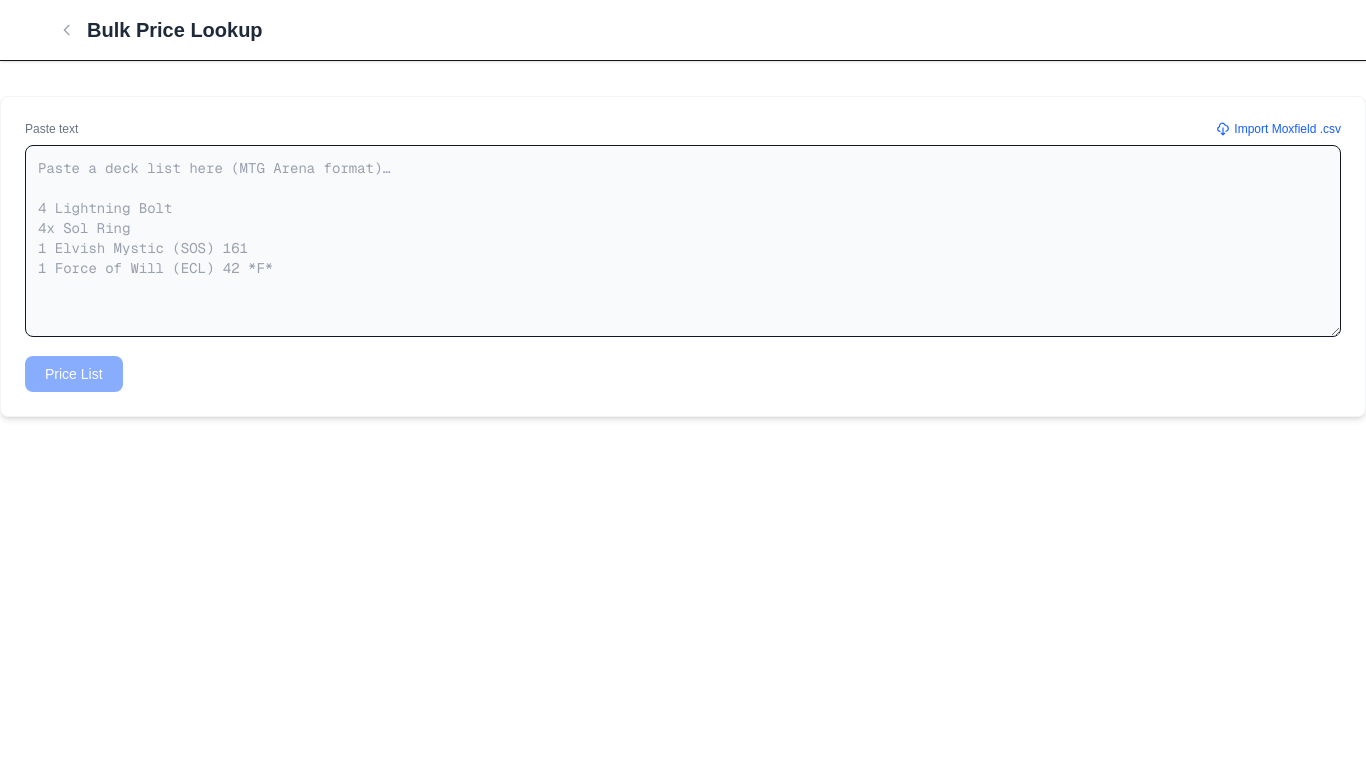
Scenario: BulkPricer › shows the no-foil-tracked fallback warning
Step 1. Type "1 Foil Only Card" into the text box → (683, 241), box [25,145,1341,337]
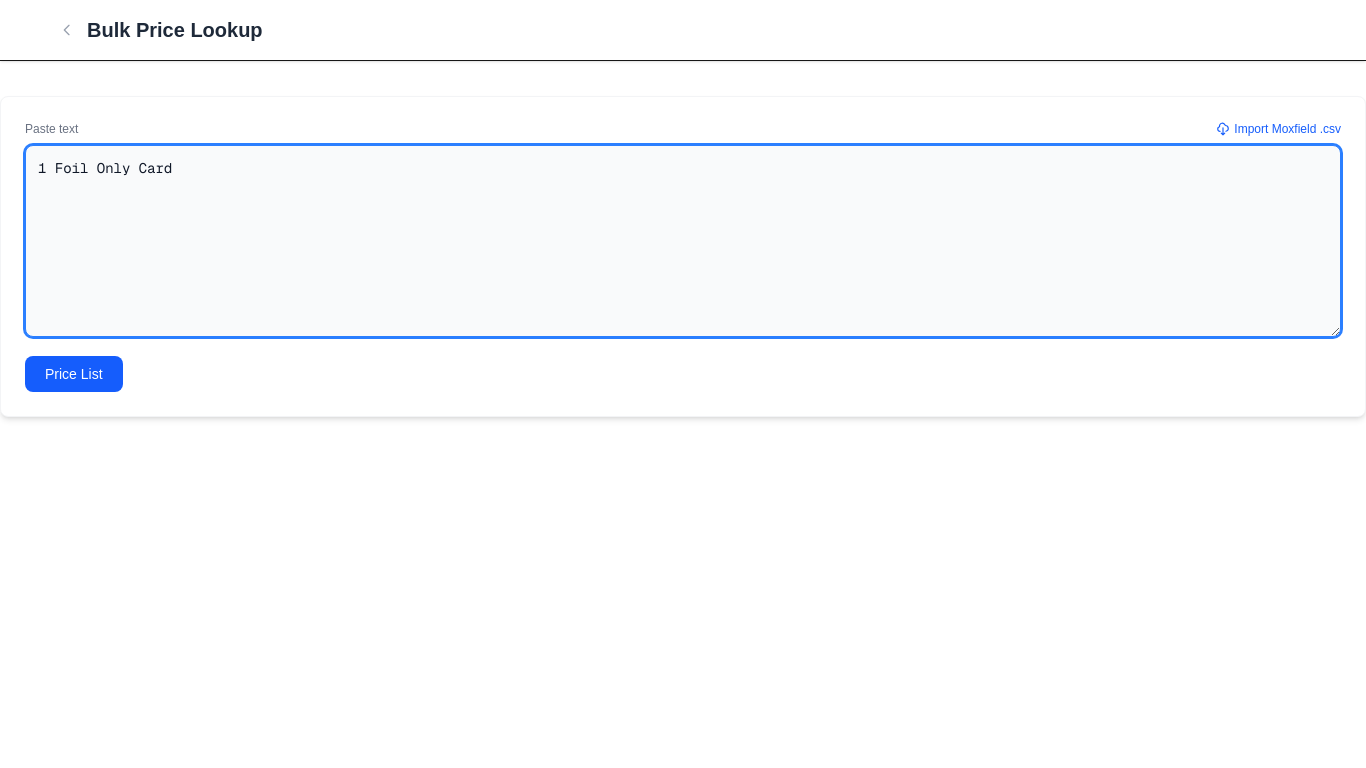
Step 2. Click the button "Price List" → (74, 374), box [25,356,123,392]
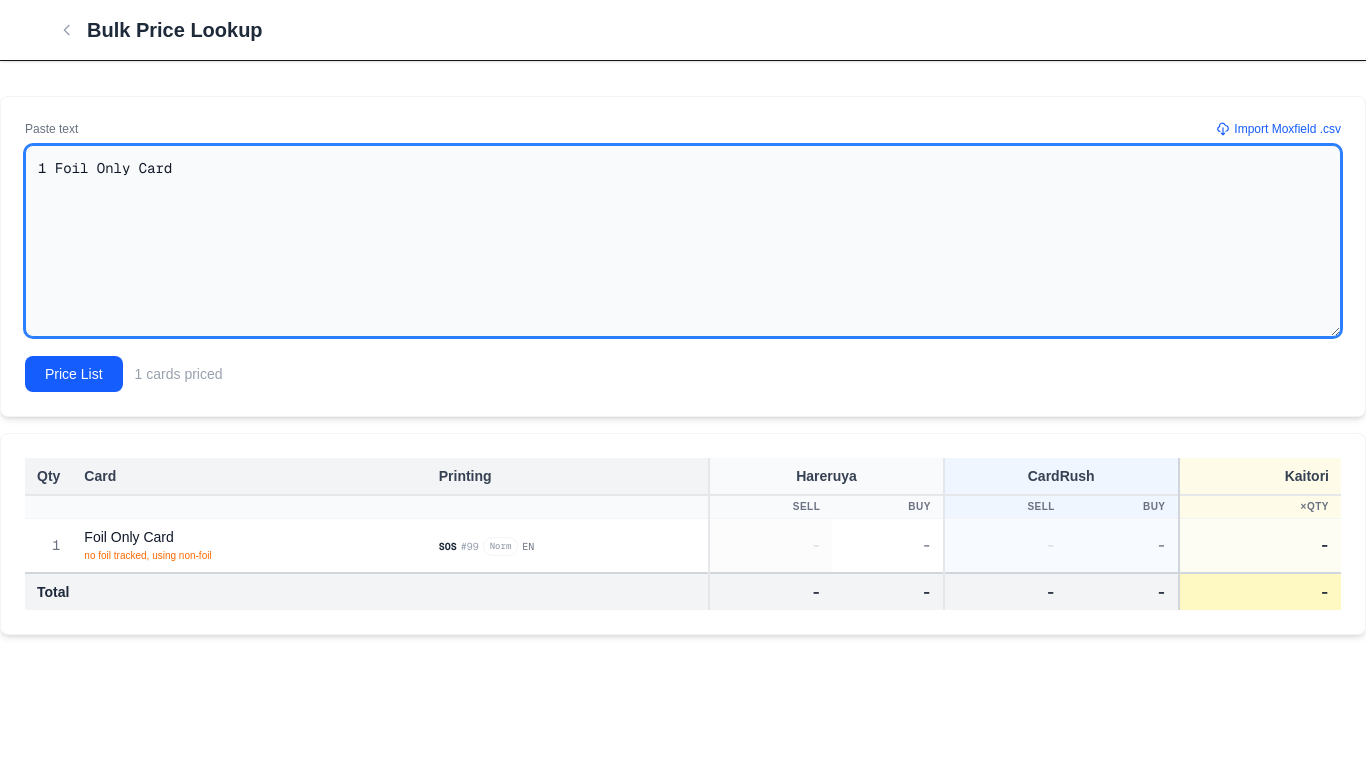
Now the text "no foil tracked, using non-foil" is shown, box [84,550,212,561]
